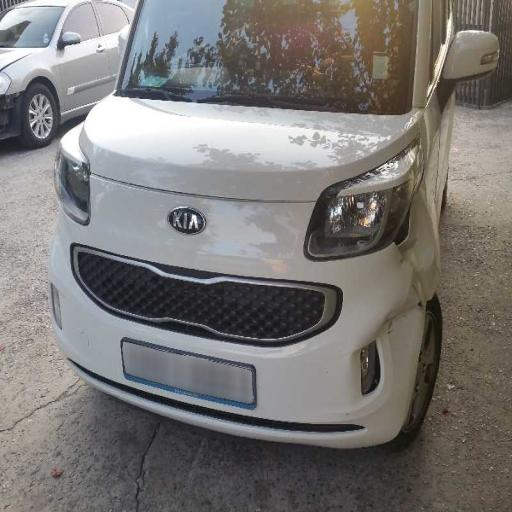scratch: (152, 154, 314, 299)
